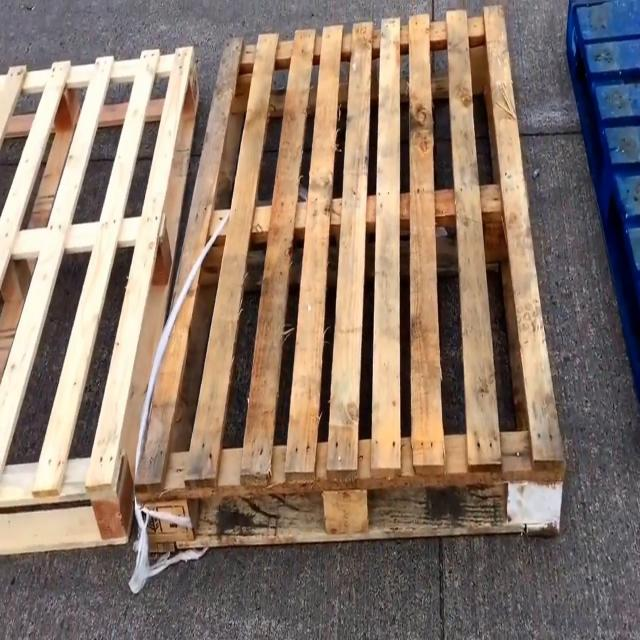Palette: (132, 3, 569, 560), (0, 38, 202, 563), (559, 0, 640, 413)
